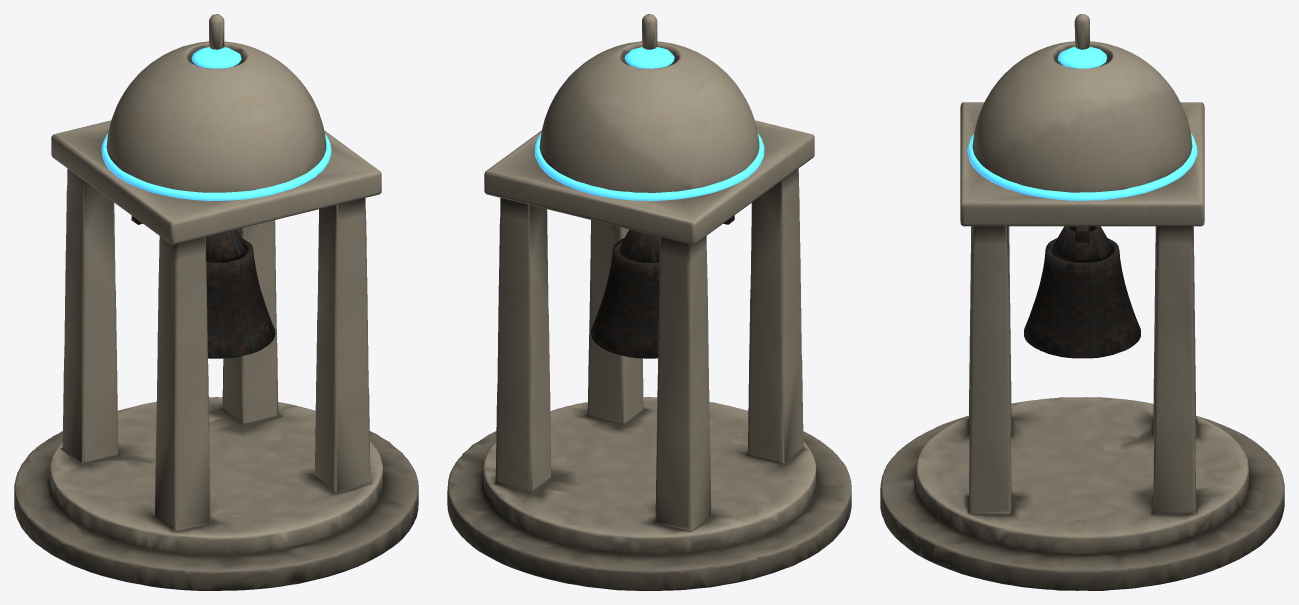
Rendered from hourbell.glb.
3 renders of one model, left to right at view 1: azimuth 30°, elevation 25°; view 2: azimuth 150°, elevation 25°; view 3: azimuth 270°, elevation 25°, orthographic.
Visible parts, largest first — view 1: hourbell_stone, hourbell_ironstone, hourbell_accent; view 2: hourbell_stone, hourbell_ironstone, hourbell_accent; view 3: hourbell_stone, hourbell_ironstone, hourbell_accent.
Boxes of the visible parts, <box> form: hourbell_stone: <box>14,14,418,590</box>; hourbell_ironstone: <box>131,216,275,358</box>; hourbell_accent: <box>101,47,331,200</box>; hourbell_stone: <box>447,14,851,590</box>; hourbell_ironstone: <box>590,215,734,358</box>; hourbell_accent: <box>535,47,764,200</box>; hourbell_stone: <box>880,14,1284,590</box>; hourbell_ironstone: <box>1024,226,1140,358</box>; hourbell_accent: <box>967,47,1197,200</box>.
Bounding box in the file's own units: 6.79 × 9.13 × 6.8.
Materials: 3 (2 with a texture image).
